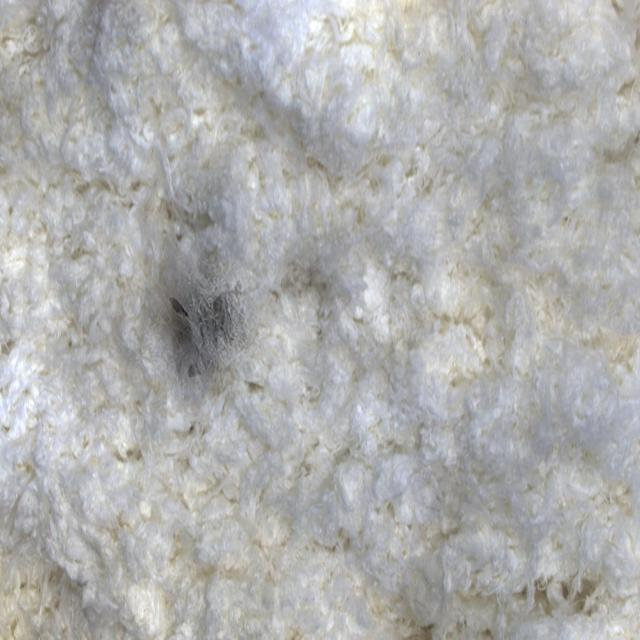dust: (66, 194, 297, 429)
